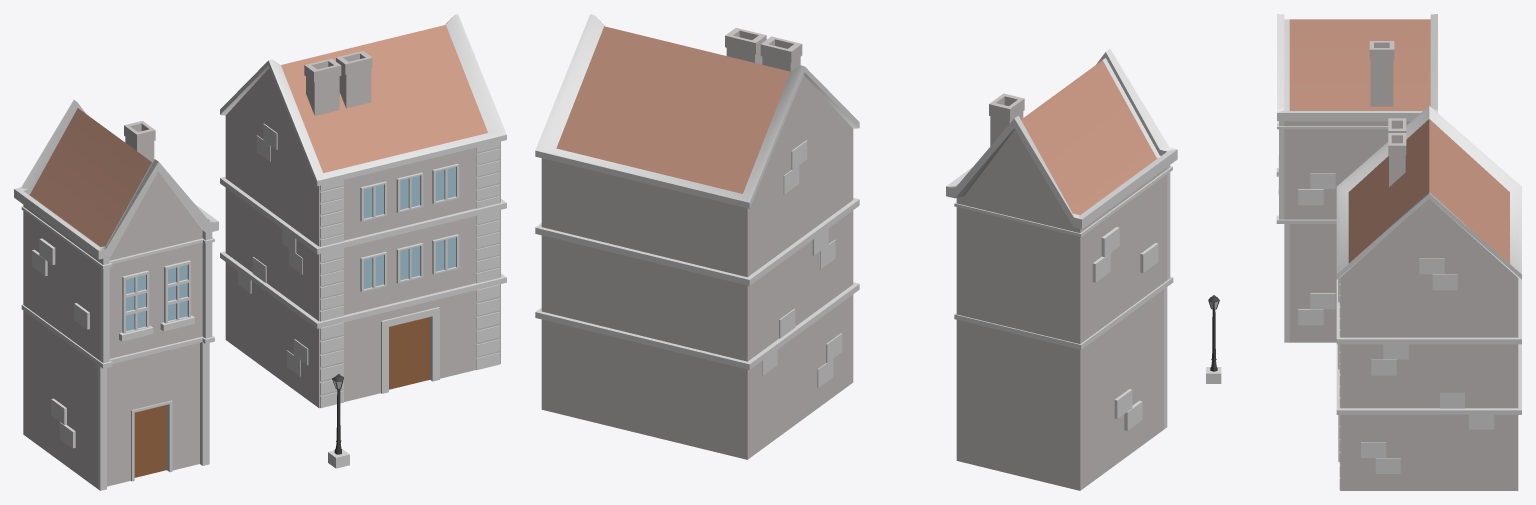
Rendered from maisons 1.fbx.
3 views of the same model, side by side, from view 1: azimuth 30°, elevation 25°; view 2: azimuth 150°, elevation 25°; view 3: azimuth 270°, elevation 25° (orthographic). The views are drawn at different scales.
Parts seen in each view (by area): view 1: pCube36, pCube1, pCube52, pCube56, pCube40, pCube57, pCube75, pCube42, pCube51, pCube74, pCube50, pCube44 (+7 smaller); view 2: pCube36, pCube1, pCube56, pCube57, pCube37; view 3: pCube36, pCube1, pCube37, pCube57, pCube2, pCube23, pCube31, pCube70, pCube73, pCube72, pCube69, pCube30 (+5 smaller).
Boxes of the visible parts, x1,y1,x2,y2 form: pCube36: (220,14,506,408); pCube1: (14,100,218,490); pCube52: (476,284,499,369); pCube56: (304,58,341,115); pCube40: (320,322,343,407); pCube57: (336,51,372,108); pCube75: (122,270,149,333); pCube42: (320,248,343,321); pCube51: (476,210,499,283); pCube74: (164,260,190,323); pCube50: (476,142,499,208); pCube44: (320,180,343,246); pCube36: (535,14,859,459); pCube1: (946,48,1177,490); pCube56: (760,36,802,71); pCube57: (725,28,766,64); pCube37: (989,93,1024,145); pCube36: (1336,105,1521,490); pCube1: (1276,14,1437,342); pCube37: (1369,41,1394,106); pCube57: (1388,133,1406,186); pCube2: (1298,309,1323,325); pCube23: (1310,293,1335,309); pCube31: (1298,189,1323,205); pCube70: (1371,359,1396,375); pCube73: (1419,258,1444,274); pCube72: (1432,274,1457,290); pCube69: (1440,392,1464,408); pCube30: (1310,173,1335,188).
Size of the model in its own units: 31.49 by 21.85 by 20.62.
